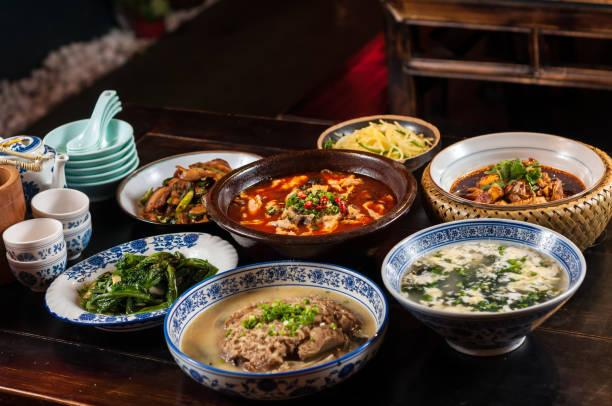Braised Crucian Carp: (163, 259, 388, 405), (381, 217, 586, 356), (207, 147, 419, 259), (42, 228, 239, 332), (425, 130, 605, 204), (119, 150, 274, 223), (316, 113, 441, 172)
